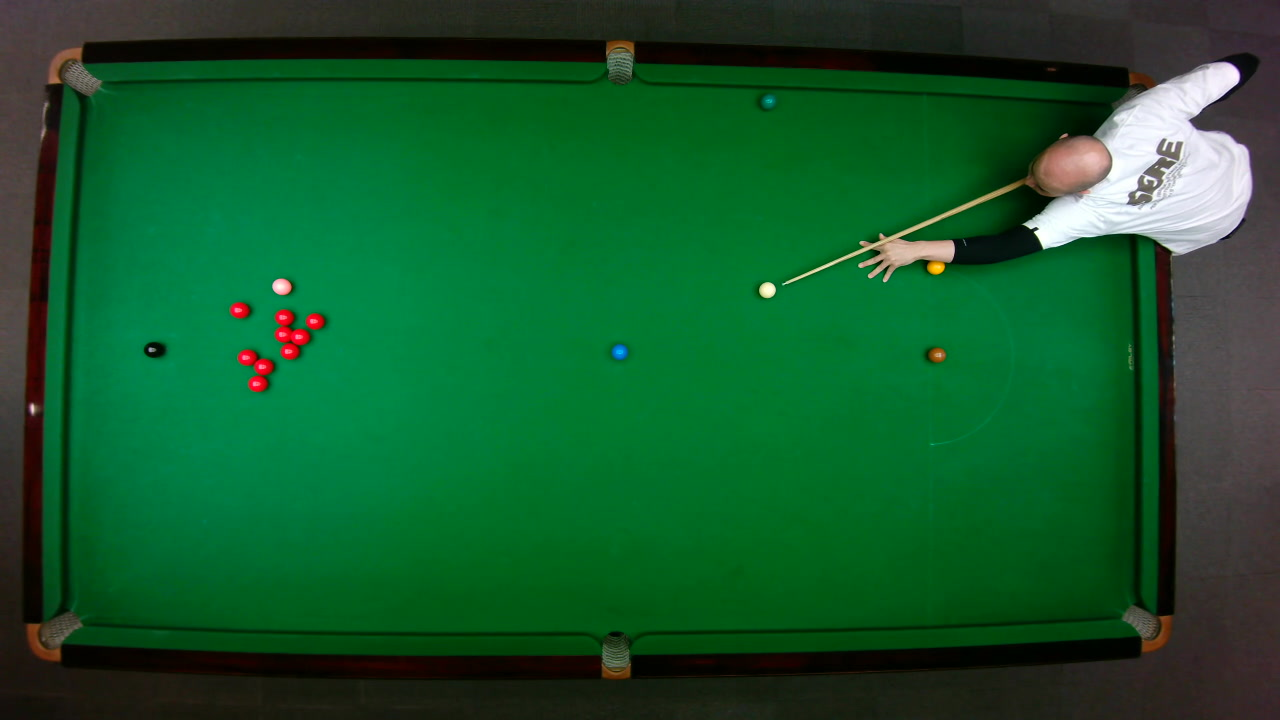bag: (25, 609, 84, 661), (45, 46, 102, 96), (1110, 72, 1164, 123), (1118, 603, 1172, 652), (600, 629, 629, 680), (605, 38, 633, 85)
black: (142, 340, 163, 357)
blue: (610, 342, 628, 360)
brown: (926, 346, 946, 362)
cue: (781, 174, 1033, 286)
green: (759, 93, 776, 110)
pink: (270, 276, 292, 295)
red: (235, 347, 258, 366), (252, 356, 274, 375), (273, 307, 294, 326), (228, 300, 250, 318), (288, 327, 310, 345), (304, 311, 324, 330), (279, 342, 300, 360), (246, 375, 268, 392), (273, 326, 293, 342)
white: (757, 280, 776, 298)
yellow: (925, 258, 946, 275)
zone: (927, 265, 1013, 445)
